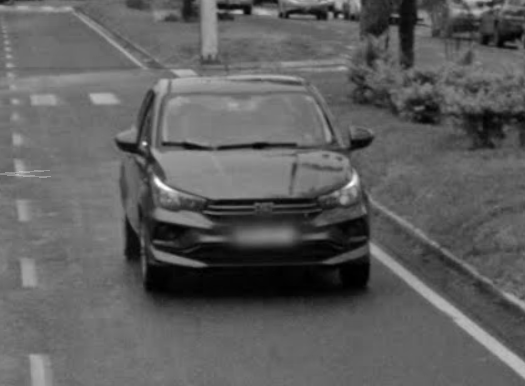car: (107, 55, 383, 299)
